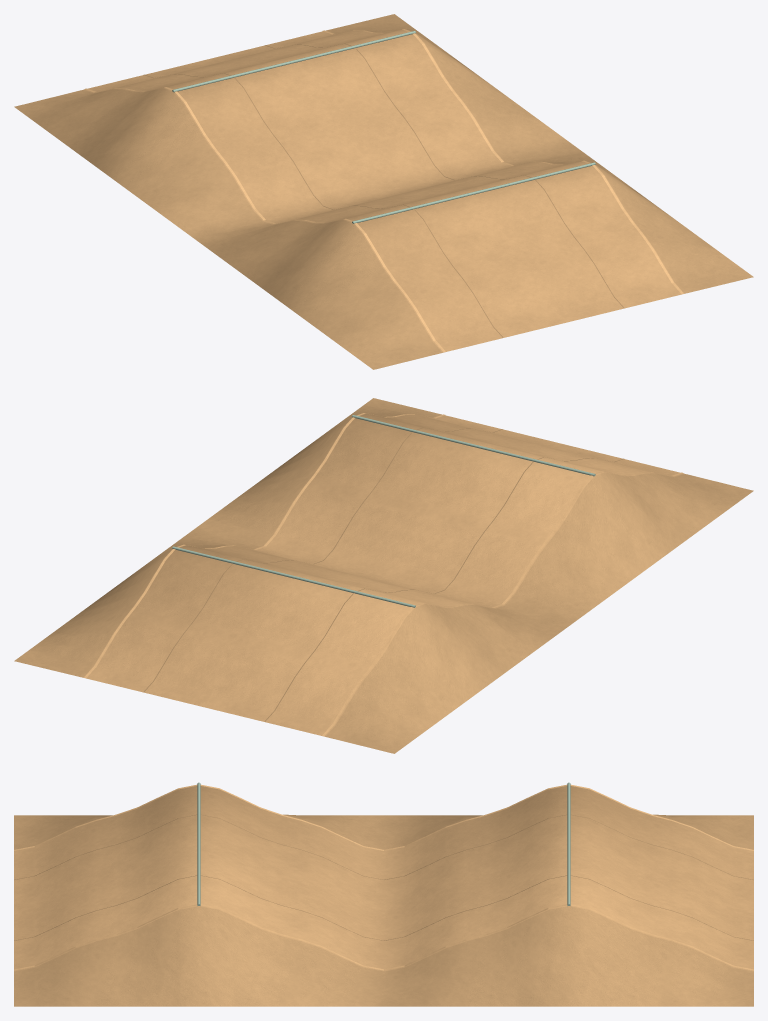
Rendered from sand-dunes.glb.
3 views of the same model, one above another, from view 1: azimuth 30°, elevation 25°; view 2: azimuth 150°, elevation 25°; view 3: azimuth 270°, elevation 25° (orthographic). The views are drawn at different scales.
Parts seen in each view (by area): view 1: sand-dunes; view 2: sand-dunes; view 3: sand-dunes.
Part boxes in pixels (box(x1,y1,x2,y2)): sand-dunes: box(14, 14, 753, 369); sand-dunes: box(14, 398, 753, 753); sand-dunes: box(14, 782, 753, 1006).
Bounding box in the file's own units: 11 × 1.82 × 18.
2 materials, 1 textured.
